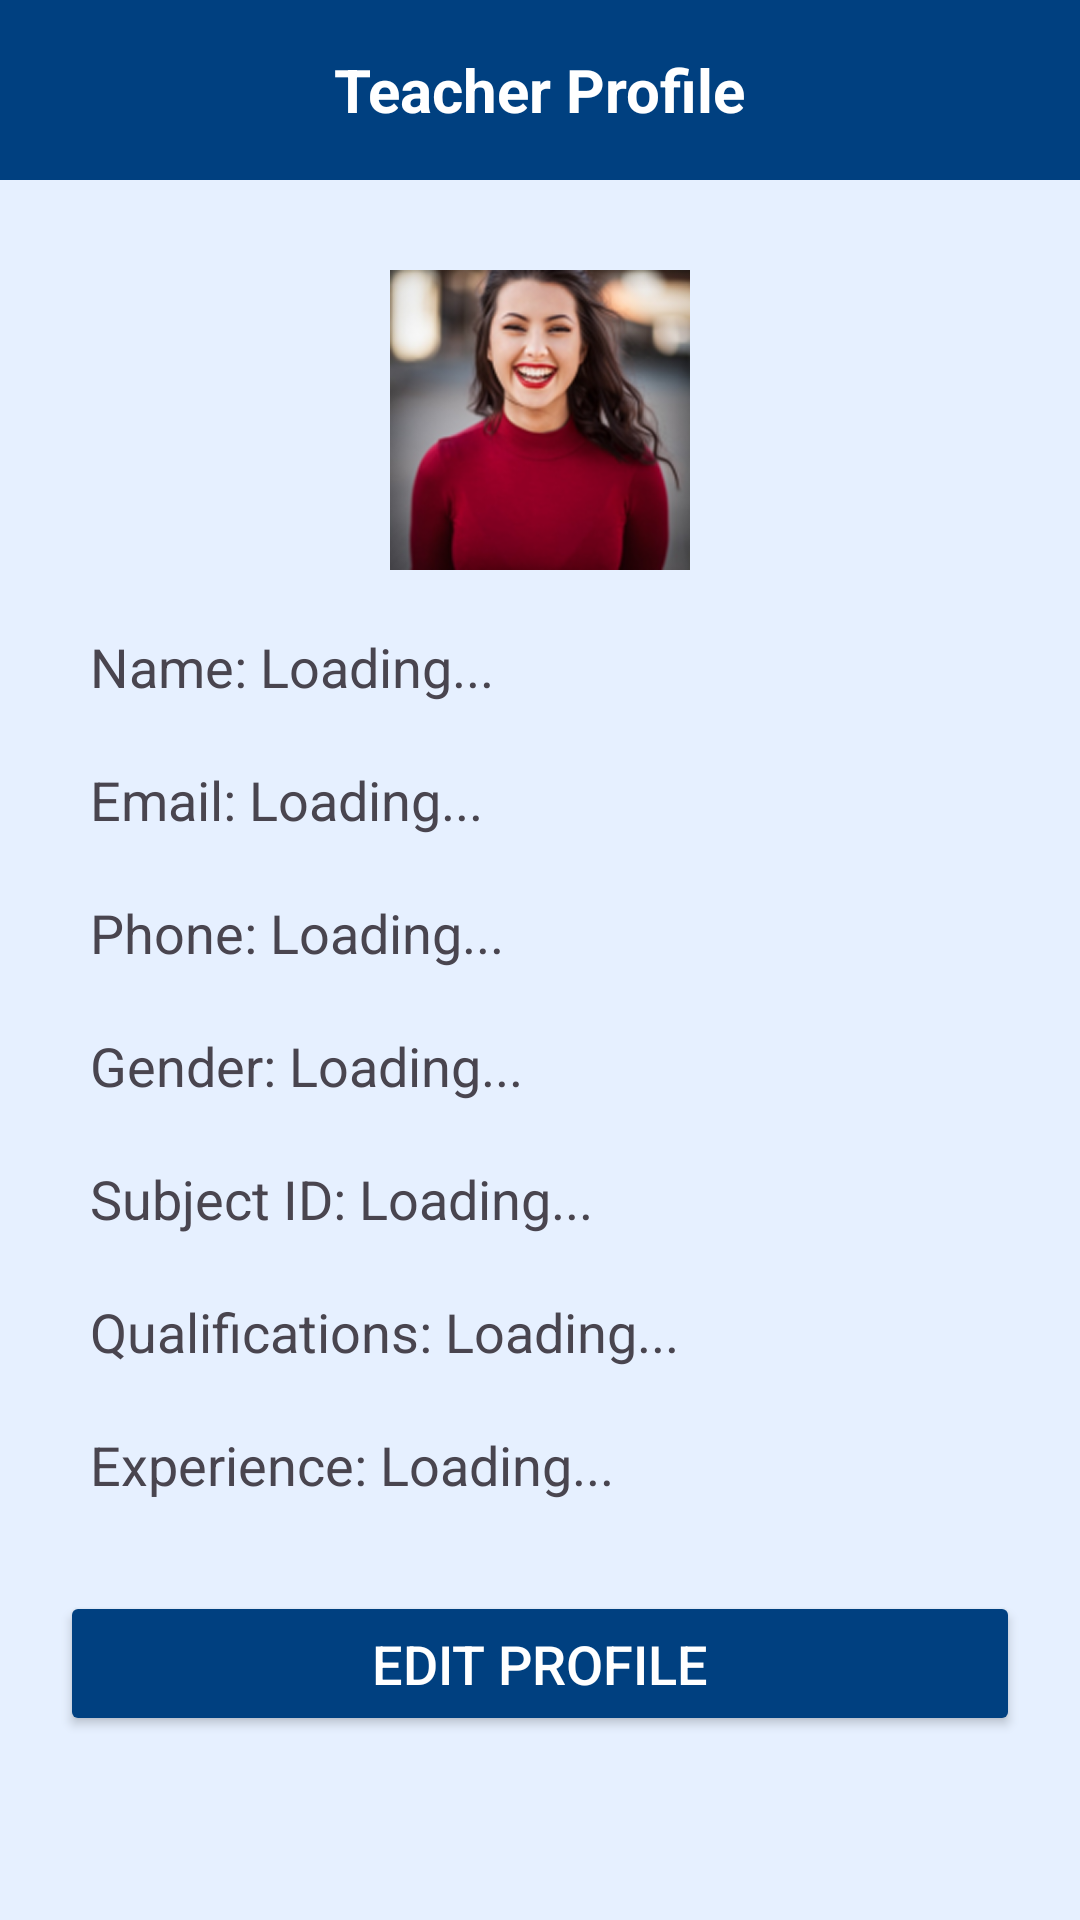

Icon bounding boxes for this 1080w x 1920h phone screenshot, format bbox=[x1, y1, x2, y2]:
profiles: bbox=[390, 270, 690, 570]
